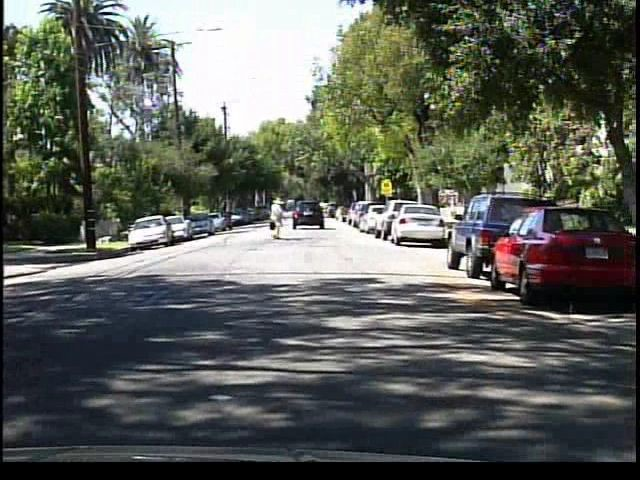person: (264, 182, 290, 231)
